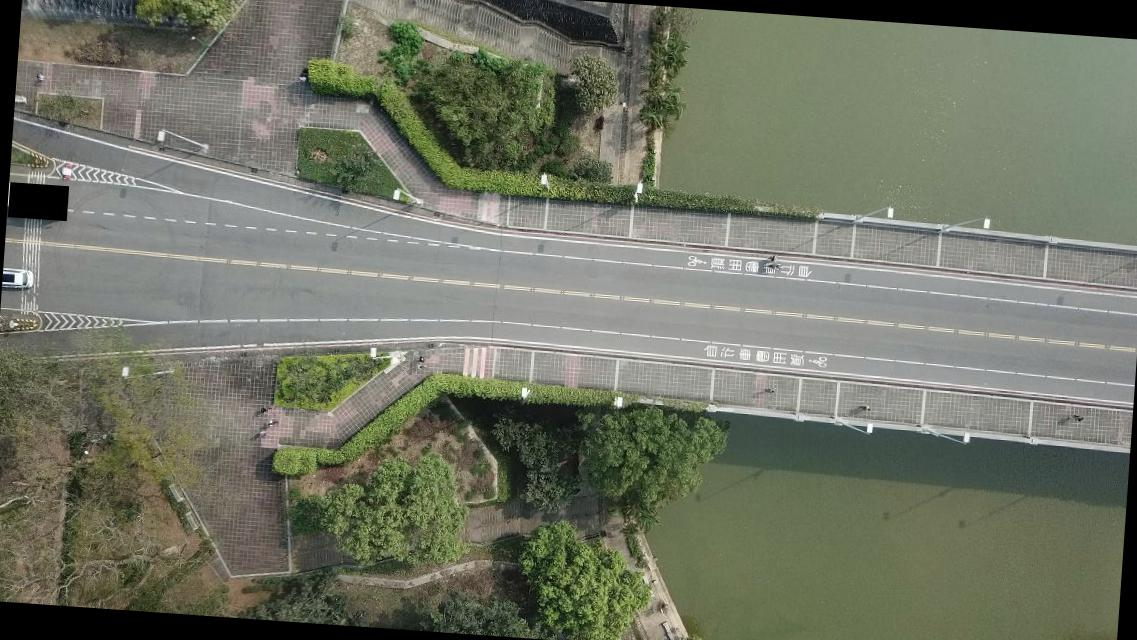vehicle: (2, 266, 33, 290)
